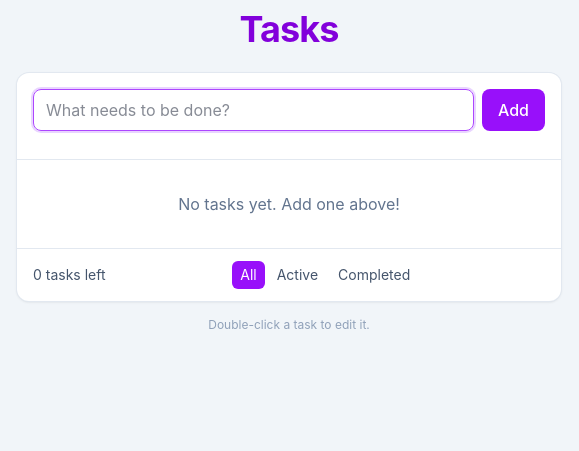
it: US-7 Clear completed › is hidden when nothing is completed, and removes only completed tasks
Type "A" into the field named "New task" at (254, 110), box [33, 89, 474, 131]
Then press Enter
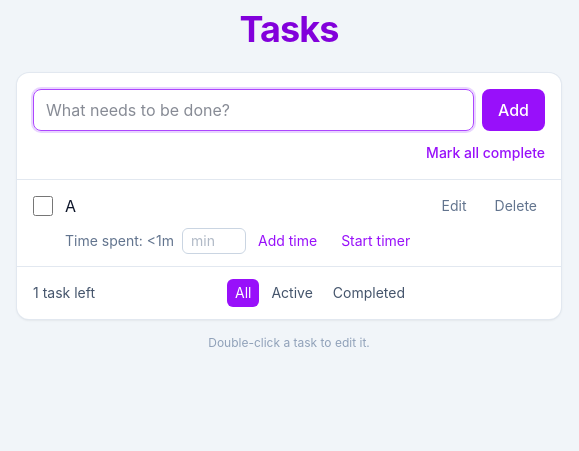
Type "B" into the field named "New task" at (254, 110), box [33, 89, 474, 131]
Then press Enter
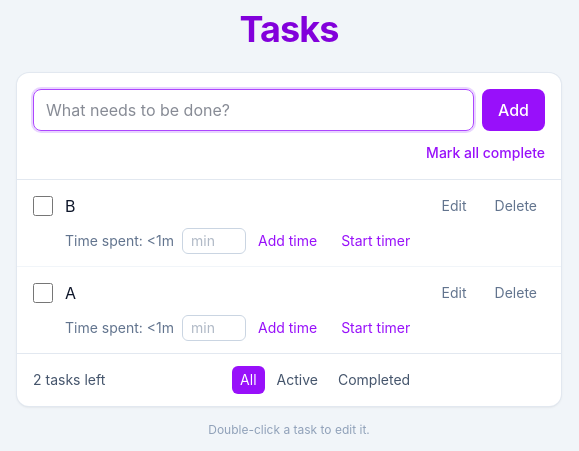
Expected: the button "Clear completed" is not shown
Click the checkbox named "\"A\"" at (43, 293), box [33, 283, 53, 303]
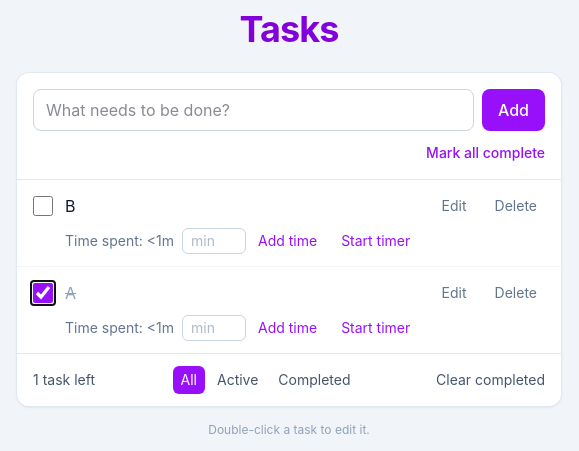
Click the button "Clear completed" at (490, 380), box [436, 370, 545, 390]
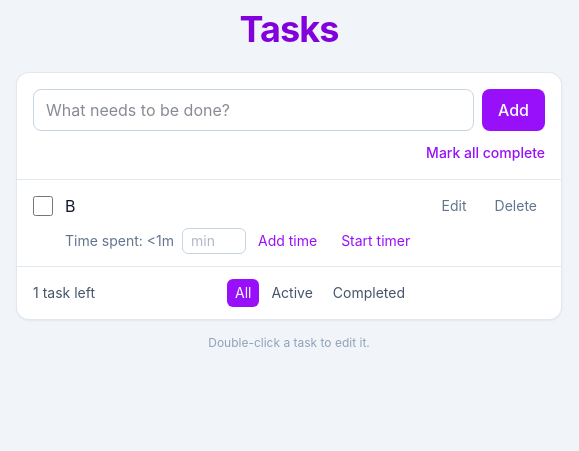
Result: the button "Clear completed" is gone
